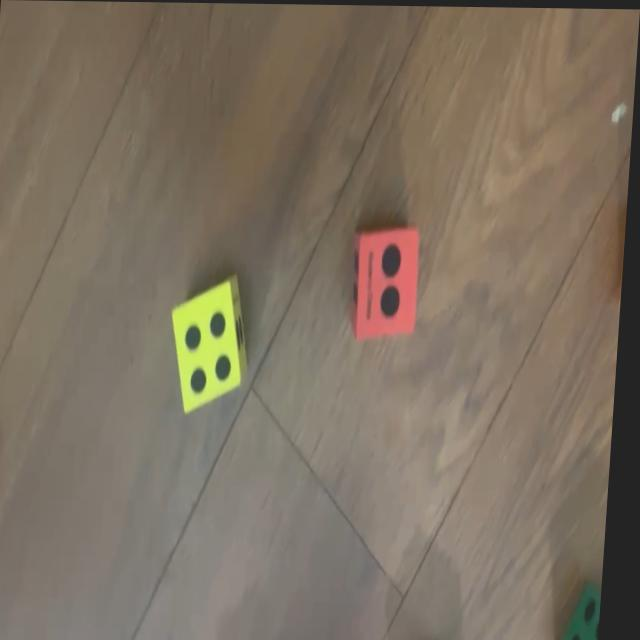cube: (349, 226, 425, 341), (566, 585, 610, 640)
